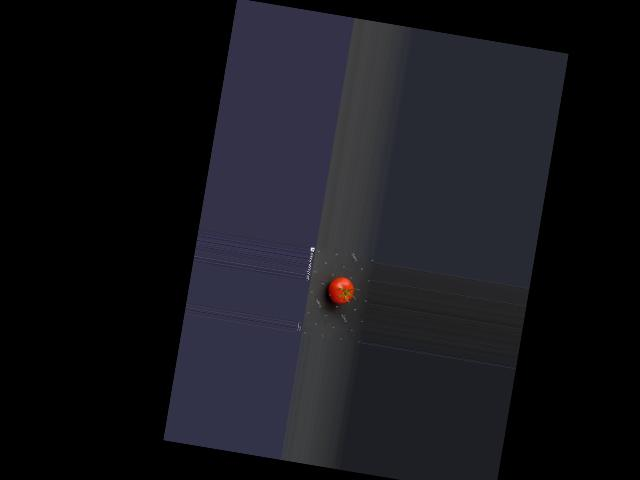tomato: (327, 275, 355, 306)
